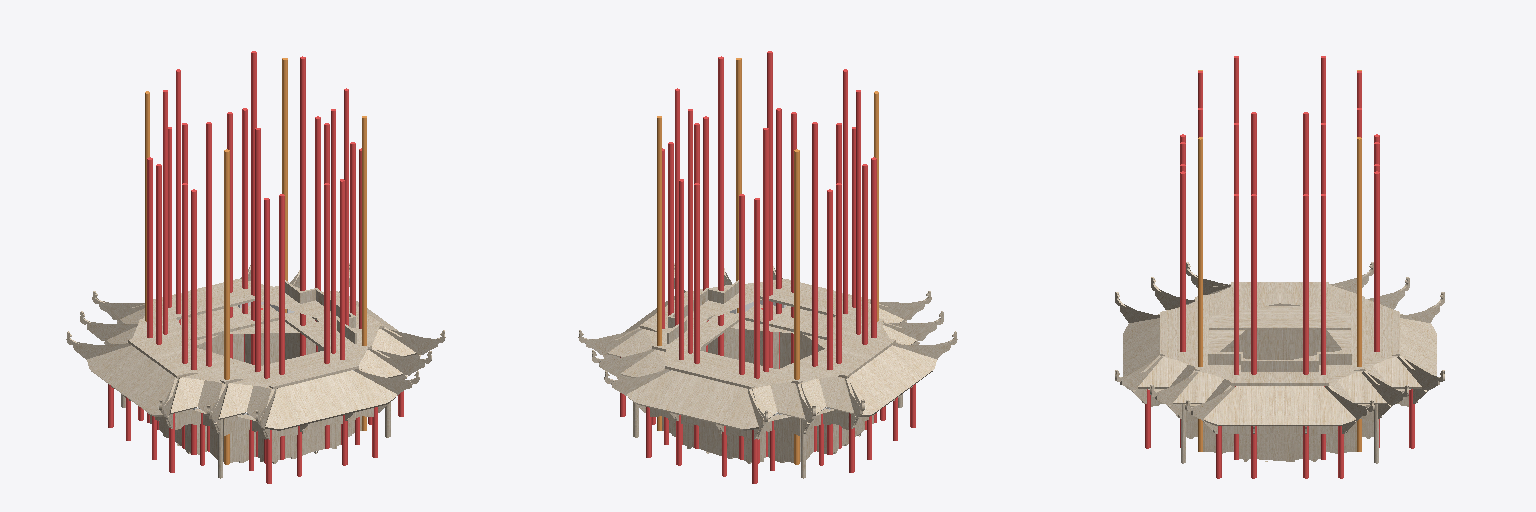
3 renders of one model, left to right at view 1: azimuth 30°, elevation 25°; view 2: azimuth 150°, elevation 25°; view 3: azimuth 270°, elevation 25°, orthographic.
Visible parts, largest first — view 1: Mesh363 ___613_3 ___640_1 Model, Mesh5 ___593_1 ___619_1 ___662_1 Model, Mesh6 ___593_2 ___619_1 ___662_1 Model, Mesh355 ___613_2 ___640_1 Model, Mesh371 ___613_4 ___640_1 Model, Mesh535 ___612_4 ___641_1 Model, Mesh430 ___593_7 ___619_4 ___662_4 Model, Mesh431 ___593_8 ___619_4 ___662_4 Model, Mesh335 ___614_8 ___656_8 Model, Mesh347 ___613_1 ___640_1 Model, Mesh409 ___617_1 ___652_1 Model, Mesh187 ___614_2 ___656_2 Model (+28 smaller); view 2: Mesh371 ___613_4 ___640_1 Model, Mesh309 ___593_6 ___619_3 ___662_3 Model, Mesh308 ___593_5 ___619_3 ___662_3 Model, Mesh347 ___613_1 ___640_1 Model, Mesh363 ___613_3 ___640_1 Model, Mesh431 ___593_8 ___619_4 ___662_4 Model, Mesh355 ___613_2 ___640_1 Model, Mesh505 ___612_2 ___641_1 Model, Mesh430 ___593_7 ___619_4 ___662_4 Model, Mesh202 ___614_3 ___656_3 Model, Mesh411 ___617_3 ___652_1 Model, Mesh137 ___614_1 ___656_1 Model (+28 smaller); view 3: Mesh371 ___613_4 ___640_1 Model, Mesh363 ___613_3 ___640_1 Model, Mesh17 ___593_3 ___619_2 ___662_2 Model, Mesh18 ___593_4 ___619_2 ___662_2 Model, Mesh347 ___613_1 ___640_1 Model, Mesh355 ___613_2 ___640_1 Model, Mesh490 ___612_1 ___641_1 Model, Mesh520 ___612_3 ___641_1 Model, Mesh410 ___617_2 ___652_1 Model, Mesh412 ___617_4 ___652_1 Model, Mesh205 ___635_3 ___656_3 Model, Mesh319 ___632_5 ___656_5 Model (+14 smaller).
Boxes of the visible parts, box(x1,y1,x2,y2) form: Mesh363 ___613_3 ___640_1 Model: box(152, 348, 315, 388); Mesh5 ___593_1 ___619_1 ___662_1 Model: box(265, 379, 333, 430); Mesh6 ___593_2 ___619_1 ___662_1 Model: box(315, 370, 396, 416); Mesh355 ___613_2 ___640_1 Model: box(292, 308, 383, 378); Mesh371 ___613_4 ___640_1 Model: box(128, 290, 220, 359); Mesh535 ___612_4 ___641_1 Model: box(198, 304, 323, 344); Mesh430 ___593_7 ___619_4 ___662_4 Model: box(87, 345, 152, 393); Mesh431 ___593_8 ___619_4 ___662_4 Model: box(121, 361, 175, 416); Mesh335 ___614_8 ___656_8 Model: box(300, 56, 305, 355); Mesh347 ___613_1 ___640_1 Model: box(197, 279, 358, 319); Mesh409 ___617_1 ___652_1 Model: box(224, 149, 229, 464); Mesh187 ___614_2 ___656_2 Model: box(206, 122, 211, 451); Mesh371 ___613_4 ___640_1 Model: box(708, 348, 871, 388); Mesh309 ___593_6 ___619_3 ___662_3 Model: box(690, 379, 758, 430); Mesh308 ___593_5 ___619_3 ___662_3 Model: box(627, 370, 708, 416); Mesh347 ___613_1 ___640_1 Model: box(640, 308, 731, 378); Mesh363 ___613_3 ___640_1 Model: box(803, 290, 895, 359); Mesh431 ___593_8 ___619_4 ___662_4 Model: box(871, 345, 936, 393); Mesh355 ___613_2 ___640_1 Model: box(665, 279, 826, 319); Mesh505 ___612_2 ___641_1 Model: box(702, 304, 825, 344); Mesh430 ___593_7 ___619_4 ___662_4 Model: box(848, 361, 902, 416); Mesh202 ___614_3 ___656_3 Model: box(718, 56, 723, 355); Mesh411 ___617_3 ___652_1 Model: box(794, 149, 799, 464); Mesh137 ___614_1 ___656_1 Model: box(812, 122, 817, 451); Mesh371 ___613_4 ___640_1 Model: box(1280, 282, 1399, 332); Mesh363 ___613_3 ___640_1 Model: box(1160, 282, 1279, 332); Mesh17 ___593_3 ___619_2 ___662_2 Model: box(1204, 386, 1279, 425); Mesh18 ___593_4 ___619_2 ___662_2 Model: box(1280, 386, 1355, 425); Mesh347 ___613_1 ___640_1 Model: box(1280, 333, 1399, 385); Mesh355 ___613_2 ___640_1 Model: box(1160, 333, 1279, 385); Mesh490 ___612_1 ___641_1 Model: box(1209, 306, 1279, 351); Mesh520 ___612_3 ___641_1 Model: box(1280, 306, 1350, 349); Mesh410 ___617_2 ___652_1 Model: box(1357, 137, 1361, 451); Mesh412 ___617_4 ___652_1 Model: box(1198, 137, 1202, 451); Mesh205 ___635_3 ___656_3 Model: box(1251, 194, 1256, 374); Mesh319 ___632_5 ___656_5 Model: box(1374, 171, 1379, 351).
Bounding box in the file's own units: 234 × 259 × 234.
4 materials, 1 textured.